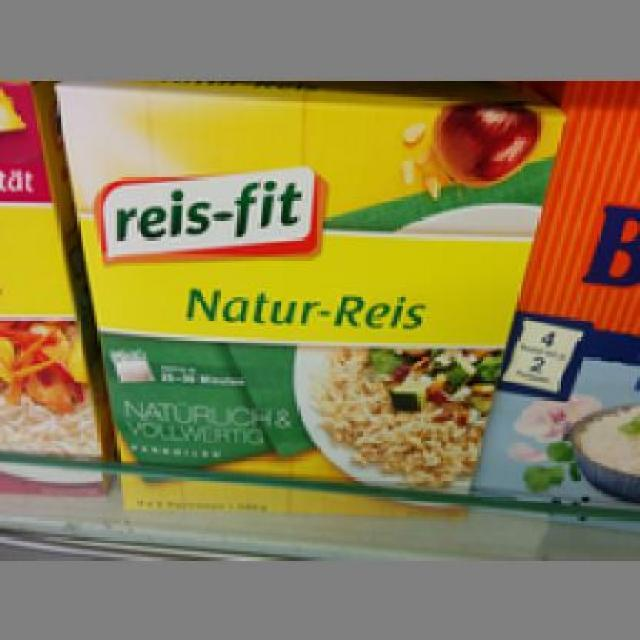Rice: (48, 80, 564, 517), (474, 77, 637, 517)
